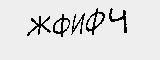Ж: (26, 12, 51, 39)
И: (69, 12, 86, 40)
Ф: (83, 7, 105, 35), (51, 12, 70, 41)
Ч: (108, 6, 131, 34)
